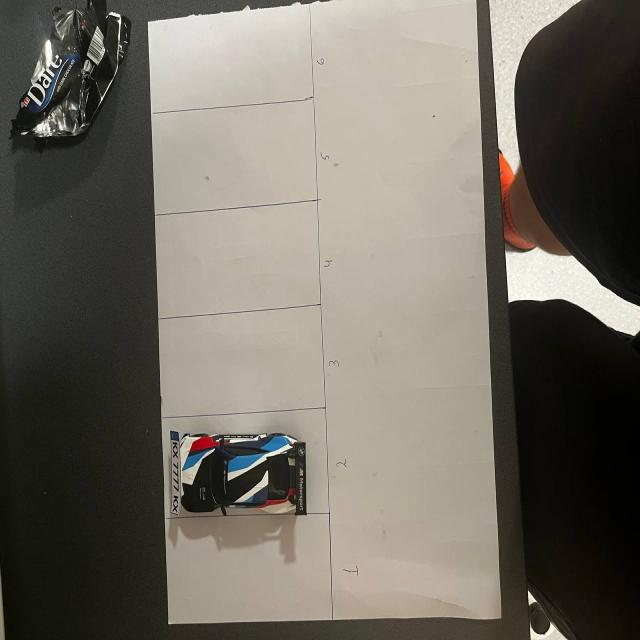cars: (162, 410, 330, 525)
